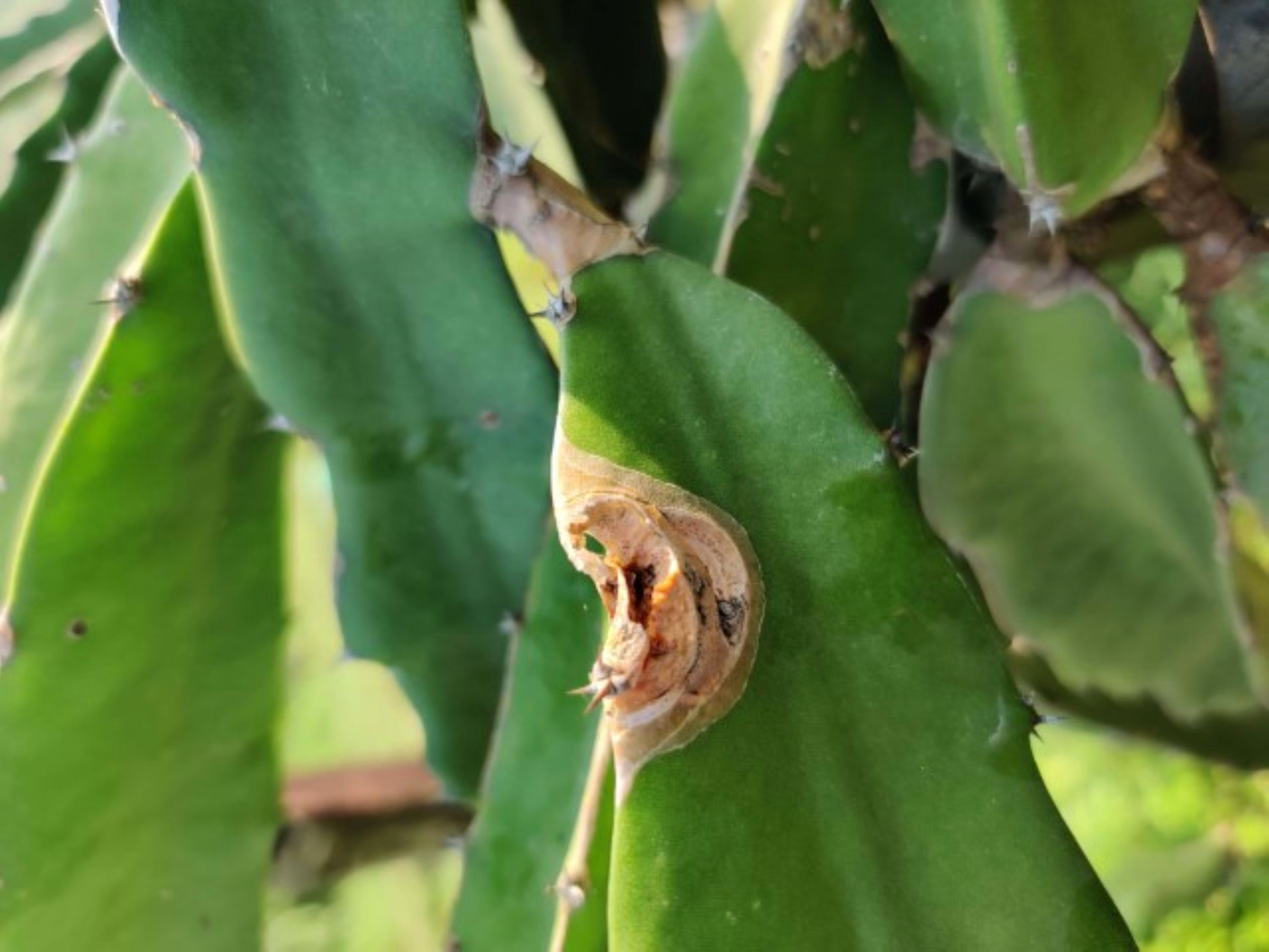stemcanker: (486, 419, 873, 829)
